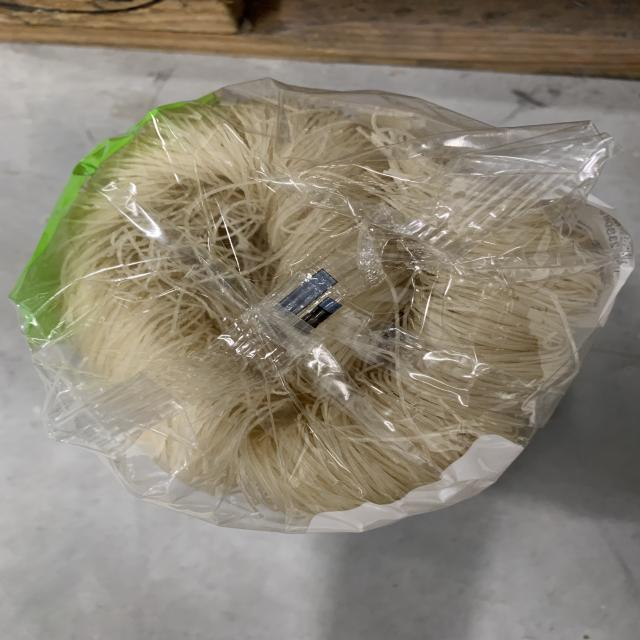object_name: (74, 108, 552, 533)
